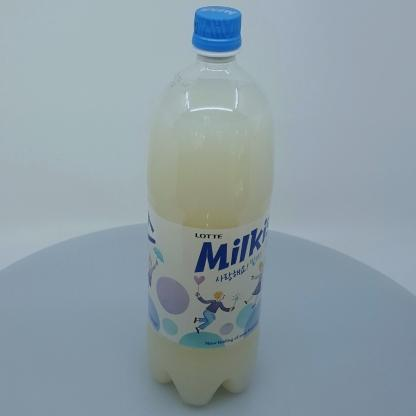-----1-5L: (146, 6, 274, 405)
